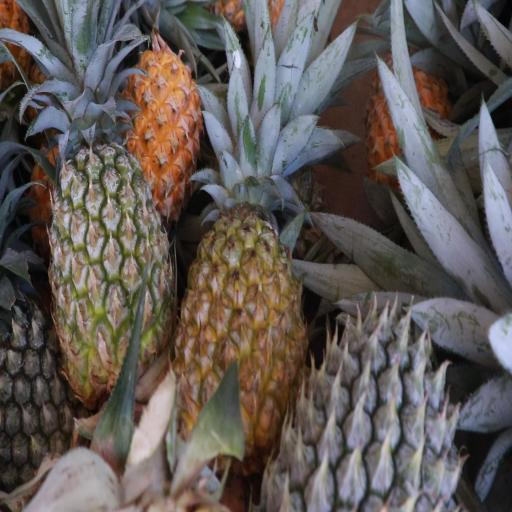------------------------------: (49, 132, 173, 384)
Pineapple - v8 v1: (176, 175, 303, 466), (68, 29, 197, 184), (366, 68, 449, 176)
